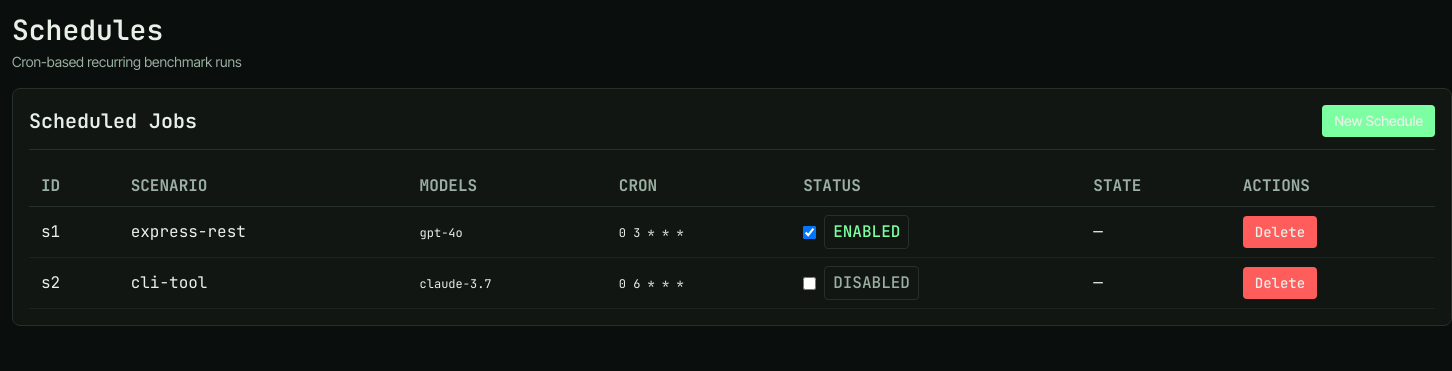
Test: Schedules › surfaces toggle failures
Click the checkbox labelled "enabled" at point(810, 232), box x1=803 y1=226 x2=816 y2=238
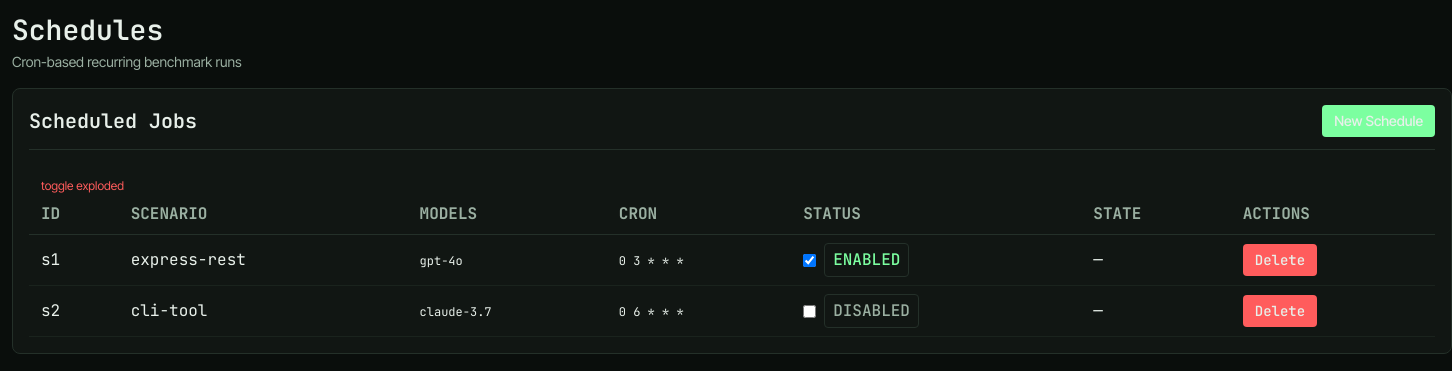
Result: the message reads "toggle exploded" at x1=41 y1=178 x2=124 y2=193
